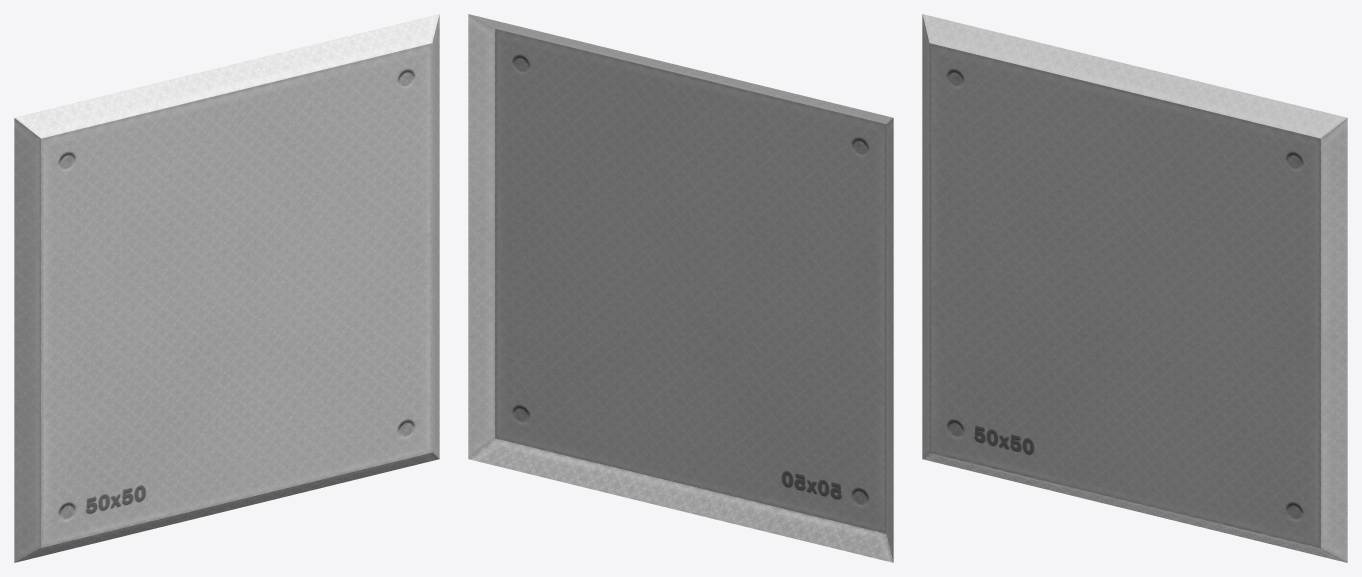
File: Wall.FBX
3 renders of one model, left to right at view 1: azimuth 30°, elevation 25°; view 2: azimuth 150°, elevation 25°; view 3: azimuth 330°, elevation 25°, orthographic.
Parts seen in each view (by area): view 1: Wall; view 2: Wall; view 3: Wall.
Part boxes in pixels (x1,y1,x2,y2): Wall: (14, 14, 439, 562); Wall: (468, 14, 893, 562); Wall: (922, 14, 1347, 562).
Size of the model in its own units: 100 by 100 by 4.
Materials: 1 (1 with a texture image).
